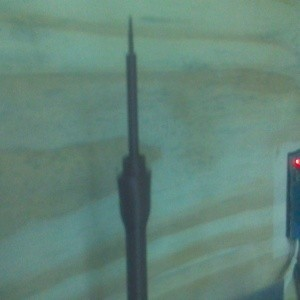solder: (115, 14, 152, 300)
